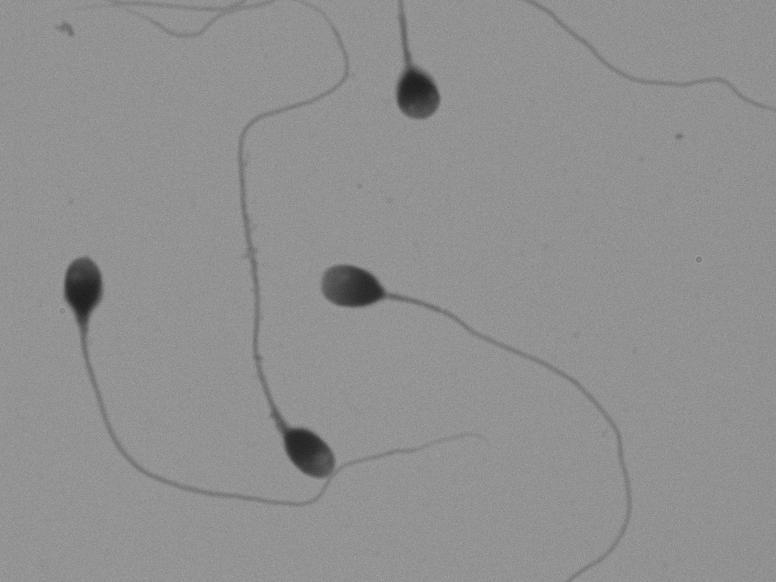Abnormal: (369, 22, 505, 142)
Normal: (192, 1, 353, 551), (315, 224, 684, 431), (28, 237, 250, 529)
